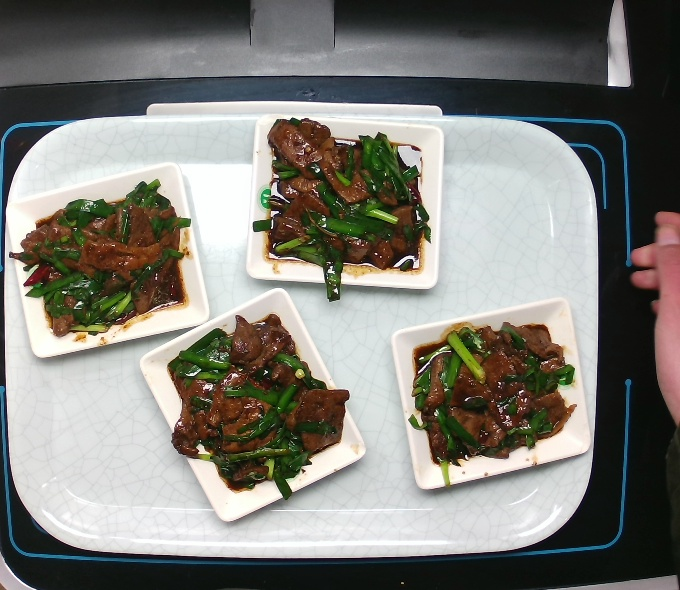wcq-ZhuGan: (161, 316, 355, 490), (261, 117, 432, 284), (407, 313, 577, 467), (19, 177, 189, 331)
